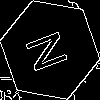N: (25, 25, 77, 75)
